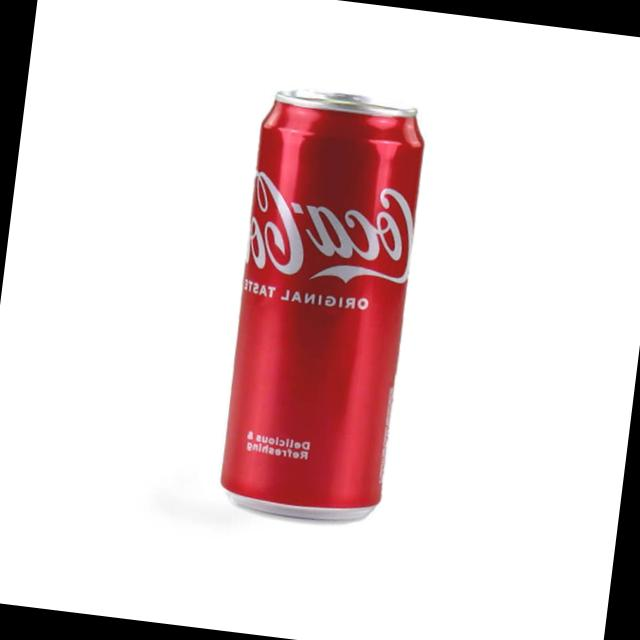cocacola: (198, 76, 451, 554)
